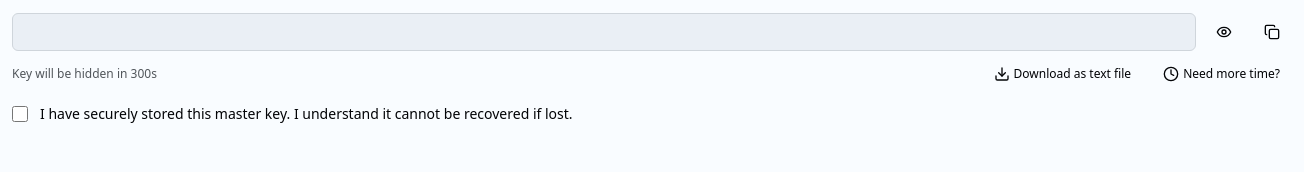
MasterKeyDisplay › show/hide toggle › masks the key again after toggling hide
This screenshot has width=1304, height=172.
What coordinates should you click on to do the following:
click the button named "show master key"
I would click on:
 (1224, 32)
Its box is x1=1204 y1=12 x2=1244 y2=52.
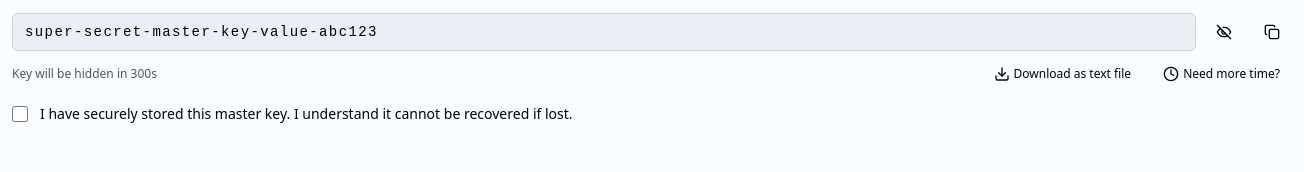
What coordinates should you click on to do the following:
click the button named "hide master key"
I would click on:
 (1224, 32)
Its box is x1=1204 y1=12 x2=1244 y2=52.
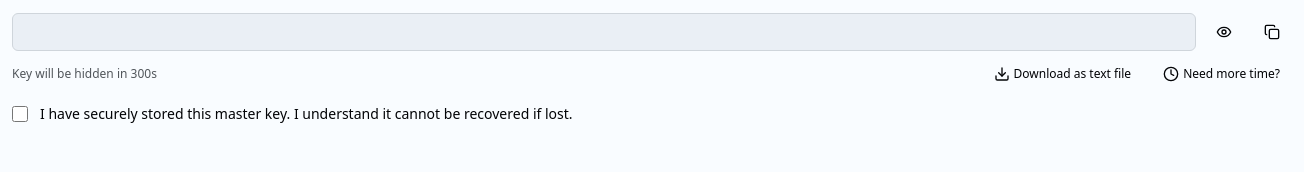
Expected: the field named "master encryption key" no longer shows "super-secret-master-key-value-abc123", x1=12 y1=13 x2=1196 y2=51
